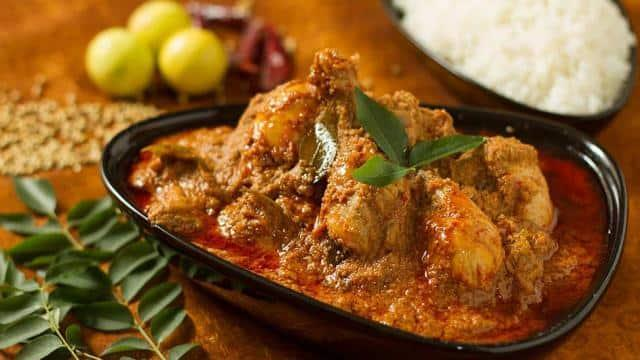chicken: (145, 51, 615, 350)
